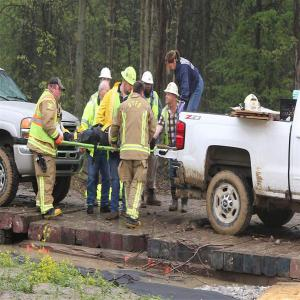none: (49, 78, 63, 99), (166, 51, 179, 73), (99, 81, 110, 101), (134, 82, 145, 98)
white: (165, 84, 179, 107), (142, 72, 154, 96), (102, 68, 112, 85)
yellow: (122, 66, 138, 94)
